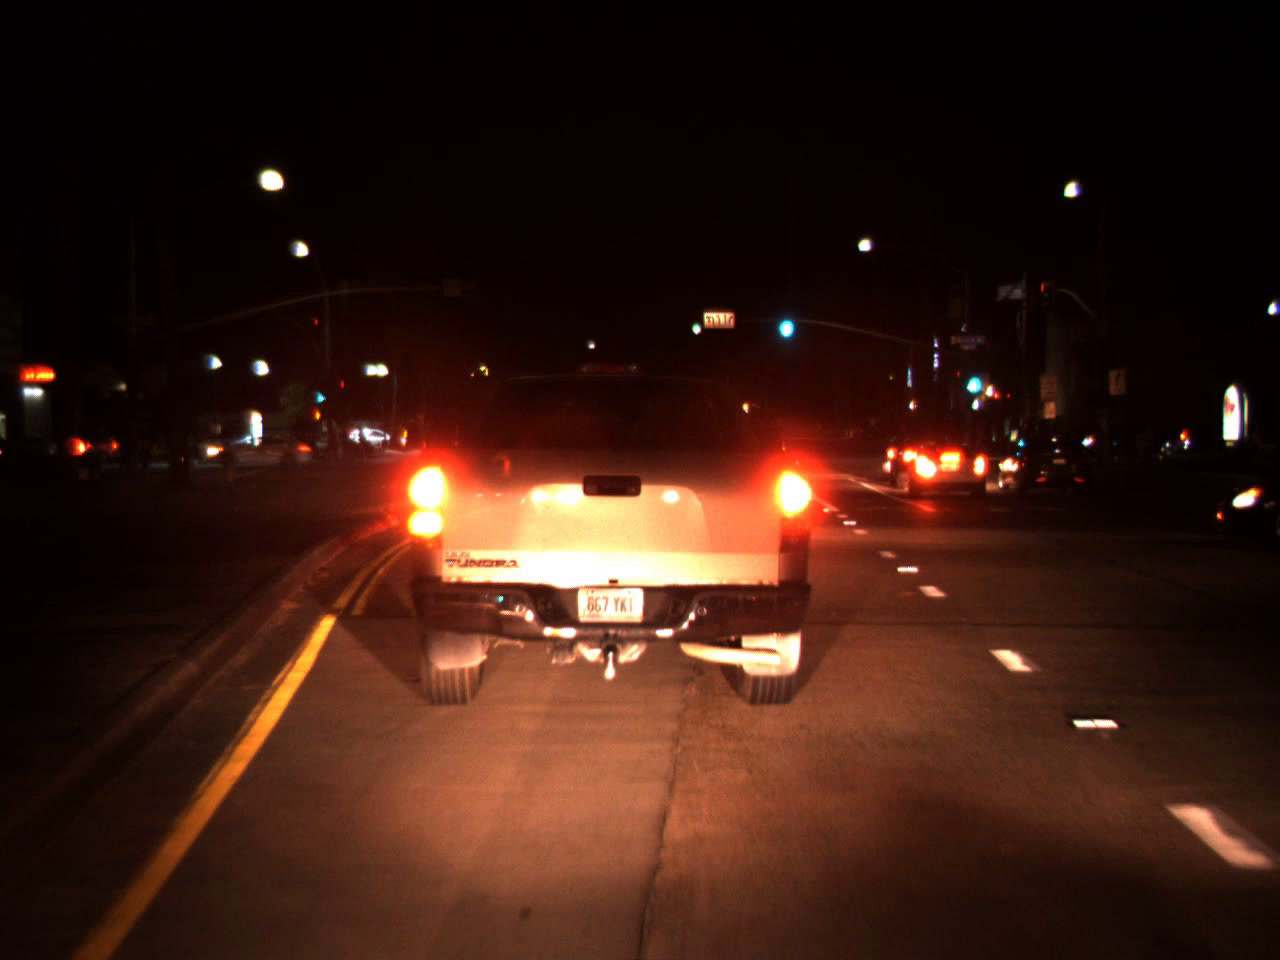go: (959, 359, 985, 398), (773, 303, 796, 339), (688, 313, 700, 334), (315, 384, 325, 405)
